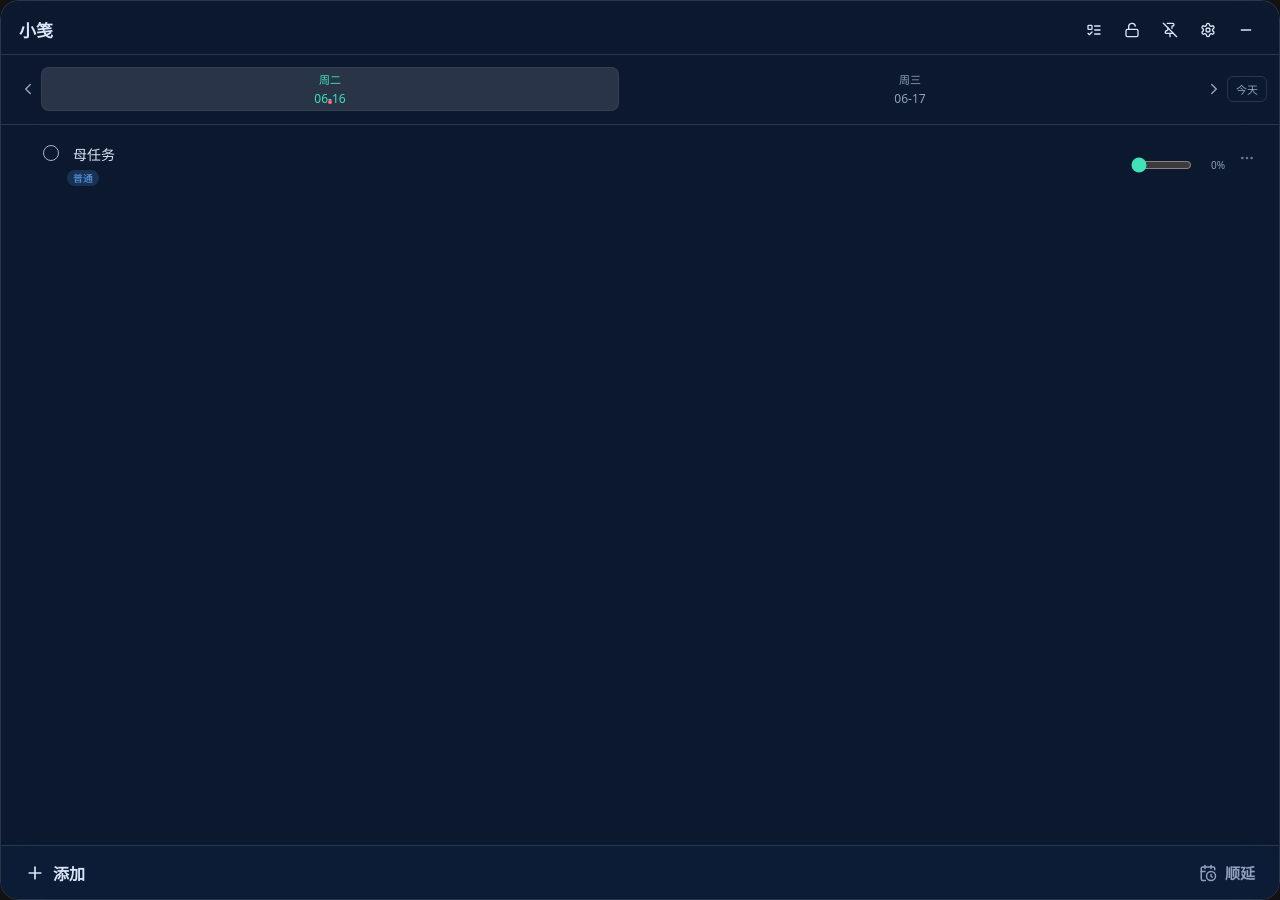
Test: MainPage display layout › keeps Escape cancel behavior when adding a subtask
Right-click the list item "母任务".
right_click(640, 165)  # box left=19, top=139, right=1261, bottom=192
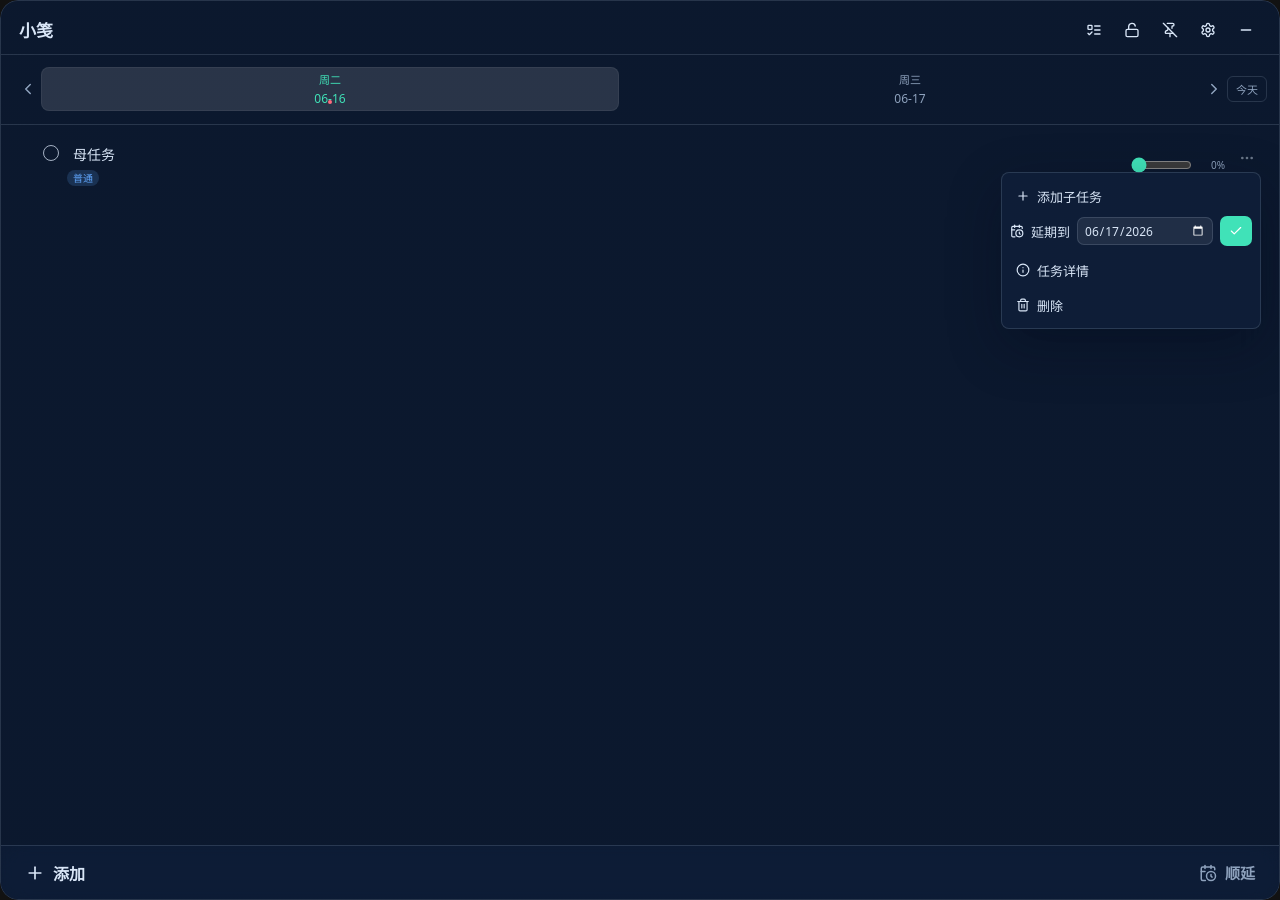
Click the button "添加子任务".
click(1131, 196)  # box left=1010, top=181, right=1252, bottom=211
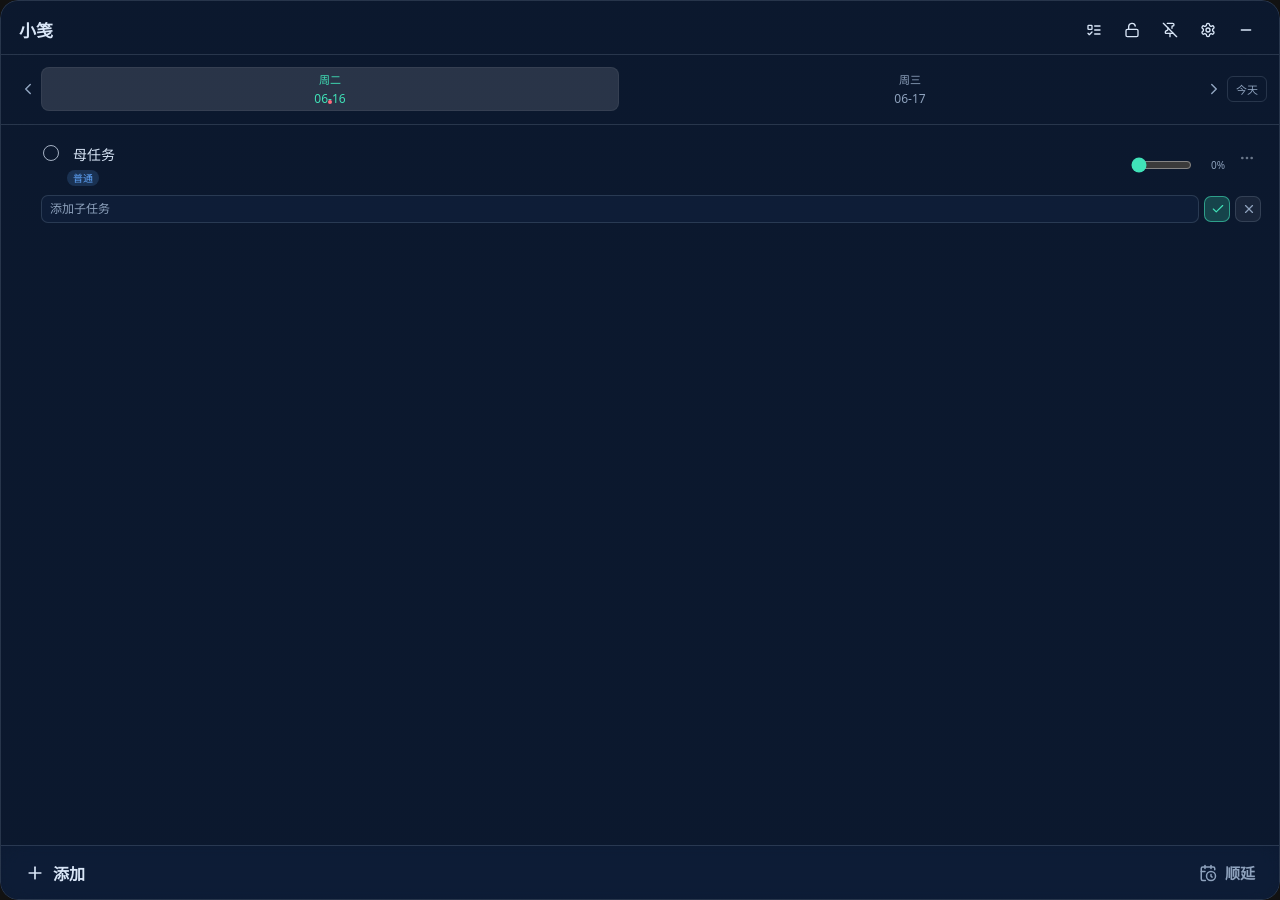
Press Escape in the field labelled "添加子任务", box left=41, top=195, right=1199, bottom=223
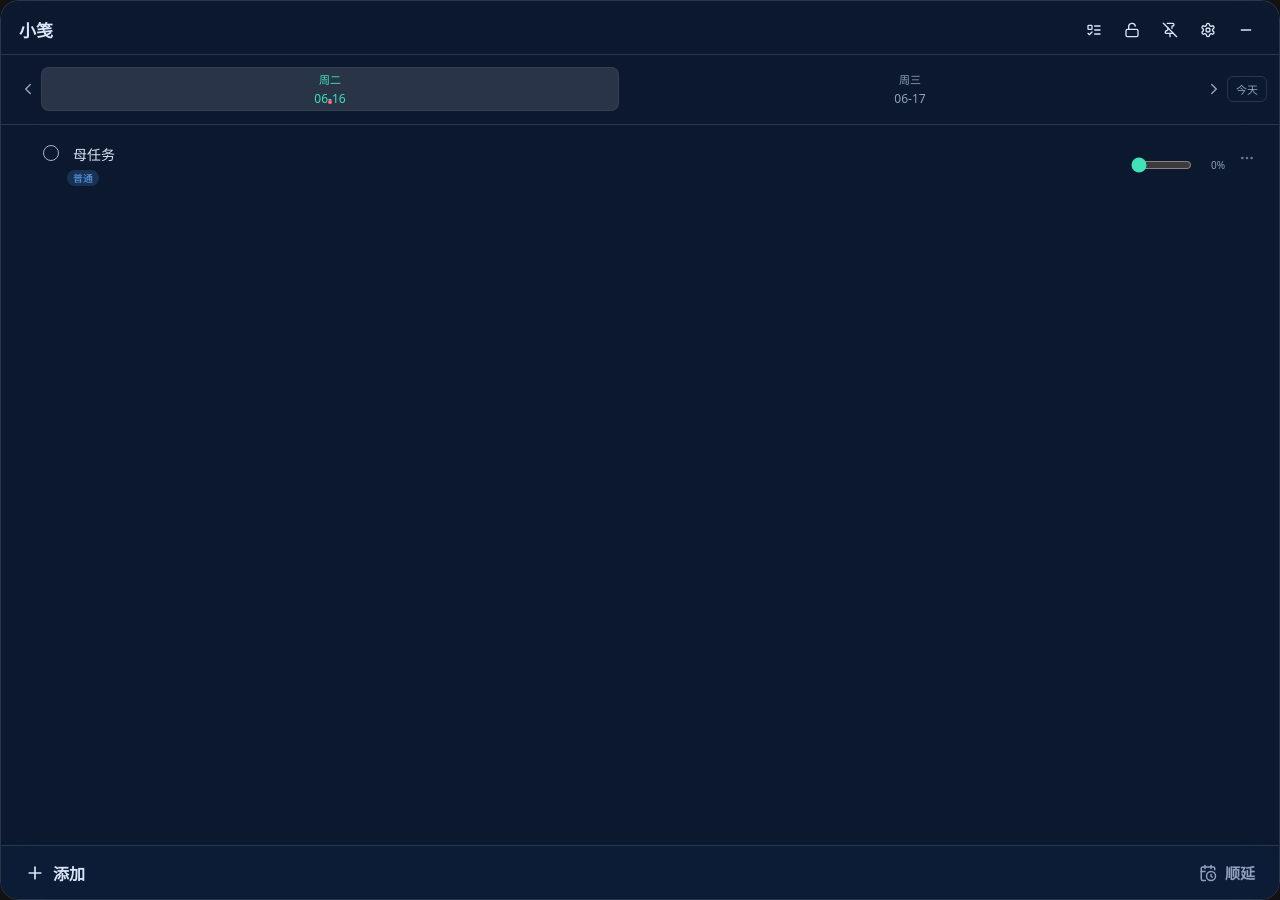
expect the field labelled "添加子任务" is gone: met
